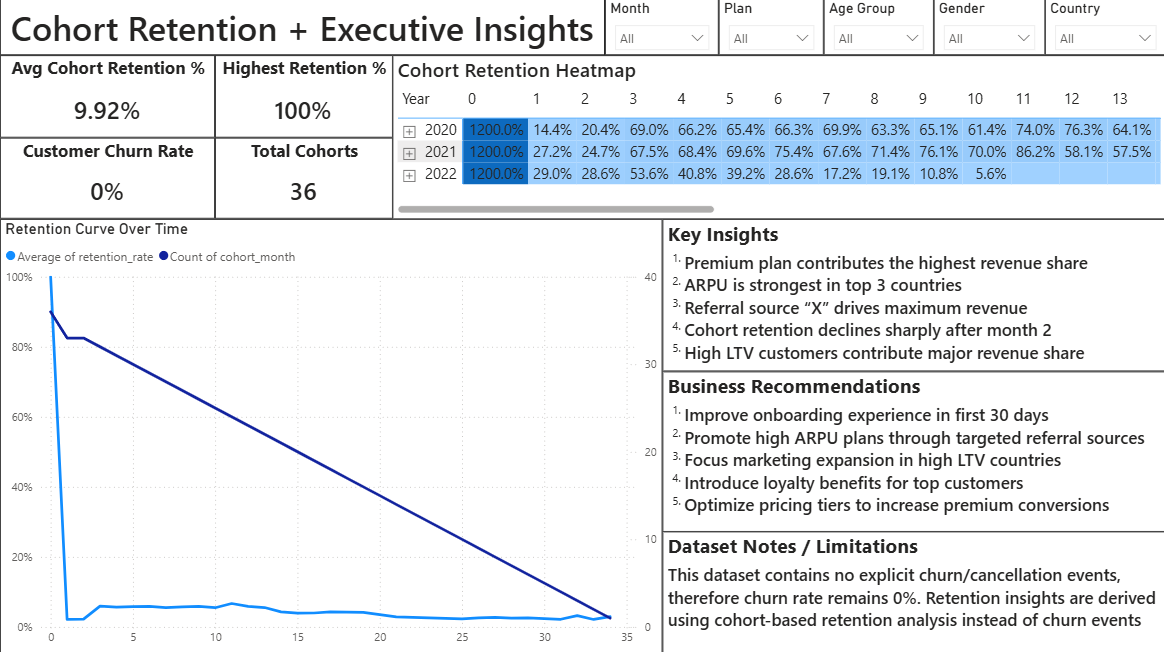

This screenshot's page, from the dashboard's own definition file:
{"tool":"powerbi","page":{"name":"Cohort & Insights","canvas":[1280,720],"ordinal":4},"visuals":[{"type":"cardVisual","title":"Total Cohorts","fields":{"Data":["Count(CohortRetention.cohort_month)"]},"box":[236,152.3,194.9,89.2],"z":0},{"type":"textbox","box":[0,0,664.2,61.7],"z":1000},{"type":"lineChart","title":"Retention Curve Over Time","fields":{"Y":["Avg(CohortRetention.retention_rate)"],"Category":["CohortRetention.months_since"],"Y2":["Count(CohortRetention.cohort_month)"]},"box":[0,241.5,727.3,478.9],"z":2000},{"type":"slicer","title":"Plan","fields":{"Values":["DimPlan.subscription_type"]},"box":[789,0,115.3,61.7],"z":3000},{"type":"slicer","title":"Country","fields":{"Values":["DimCustomer.customer_country"]},"box":[1147.2,0,133.1,61.7],"z":4000},{"type":"slicer","title":"Age Group","fields":{"Values":["DimCustomer.age_group"]},"box":[904.3,0,120.8,61.7],"z":5000},{"type":"slicer","title":"Gender","fields":{"Values":["DimCustomer.customer_gender"]},"box":[1025,0,122.1,61.7],"z":6000},{"type":"slicer","title":"Month","fields":{"Values":["DimDate.month_start"]},"box":[664.2,0,124.9,61.7],"z":7000},{"type":"cardVisual","title":"Highest Retention %","fields":{"Data":["Max(CohortRetention.retention_rate)"]},"box":[236,61.7,194.9,90.6],"z":8000},{"type":"cardVisual","title":"Avg Cohort Retention %","fields":{"Data":["Avg(CohortRetention.retention_rate)"]},"box":[0,61.7,236,90.6],"z":9000},{"type":"cardVisual","title":"Customer Churn Rate","fields":{"Data":["FactSubPeriods.Churn Rate %"]},"box":[0,152.3,236,89.2],"z":10000},{"type":"pivotTable","title":"Cohort Retention Heatmap","fields":{"Rows":["CohortRetention.cohort_month.Variation.Date Hierarchy.Year","CohortRetention.cohort_month.Variation.Date Hierarchy.Quarter","CohortRetention.cohort_month.Variation.Date Hierarchy.Month","CohortRetention.cohort_month.Variation.Date Hierarchy.Day"],"Columns":["CohortRetention.months_since"],"Values":["Sum(CohortRetention.retention_rate)"]},"box":[430.9,61.7,849.4,179.8],"z":11000},{"type":"textbox","title":"Key Insights","box":[727.3,241.5,553,167.4],"z":13000},{"type":"textbox","title":"Business Recommendations","box":[727.3,408.9,553,175.6],"z":14000},{"type":"textbox","title":"Dataset Notes / Limitations","box":[727.3,584.6,553,135.8],"z":15000}]}

Visuals, with their boxes in screenshot pixels (x1, y1, x2, y2), scaled from the page's 1280x720 canvas onto the 1164x652 screenshot:
"Total Cohorts" cardVisual: [215,138,392,219]
textbox: [0,0,604,56]
"Retention Curve Over Time" lineChart: [0,219,661,651]
"Plan" slicer: [717,0,822,56]
"Country" slicer: [1043,0,1163,56]
"Age Group" slicer: [822,0,932,56]
"Gender" slicer: [932,0,1043,56]
"Month" slicer: [604,0,718,56]
"Highest Retention %" cardVisual: [215,56,392,138]
"Avg Cohort Retention %" cardVisual: [0,56,215,138]
"Customer Churn Rate" cardVisual: [0,138,215,219]
"Cohort Retention Heatmap" pivotTable: [392,56,1163,219]
"Key Insights" textbox: [661,219,1163,370]
"Business Recommendations" textbox: [661,370,1163,529]
"Dataset Notes / Limitations" textbox: [661,529,1163,651]
